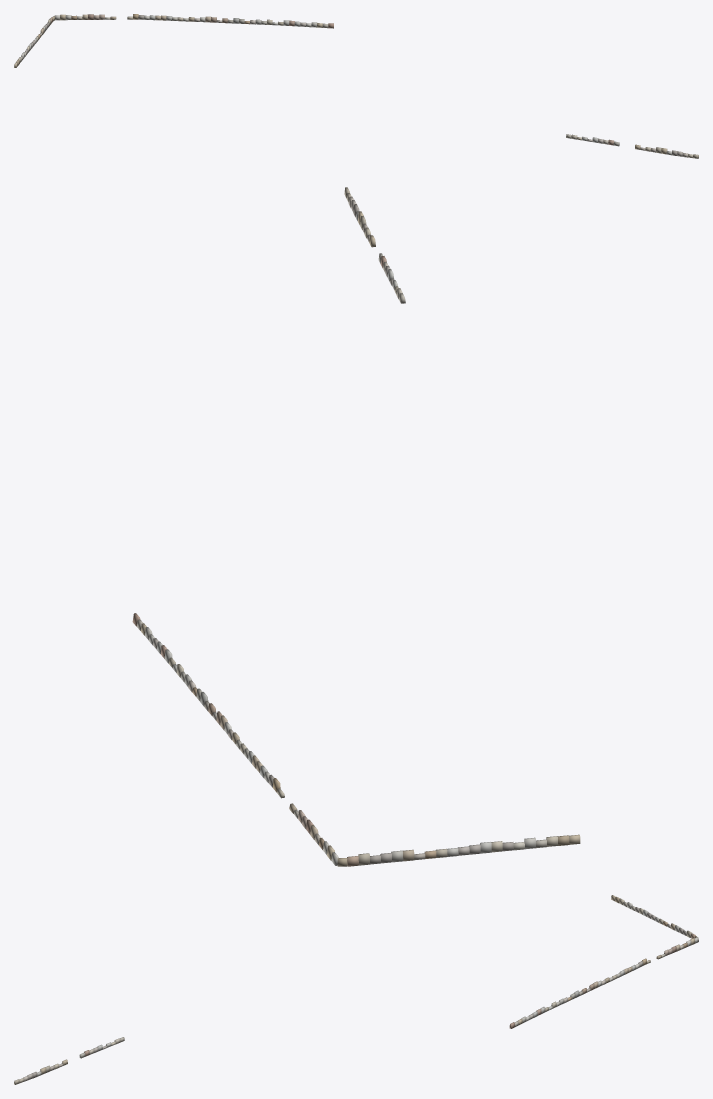
The model's file is farm_-1_0_collision.glb.
3 renders of one model, top to bottom at view 1: azimuth 30°, elevation 25°; view 2: azimuth 150°, elevation 25°; view 3: azimuth 270°, elevation 25°, orthographic. The views are drawn at different scales.
Parts seen in each view (by area): view 1: geometry_0; view 2: geometry_0; view 3: geometry_0.
Boxes of the visible parts, x1,y1,x2,y2 form: geometry_0: (14, 14, 698, 158); geometry_0: (132, 187, 580, 866); geometry_0: (14, 895, 698, 1084).
Size of the model in its own units: 129 by 8.26 by 181.
